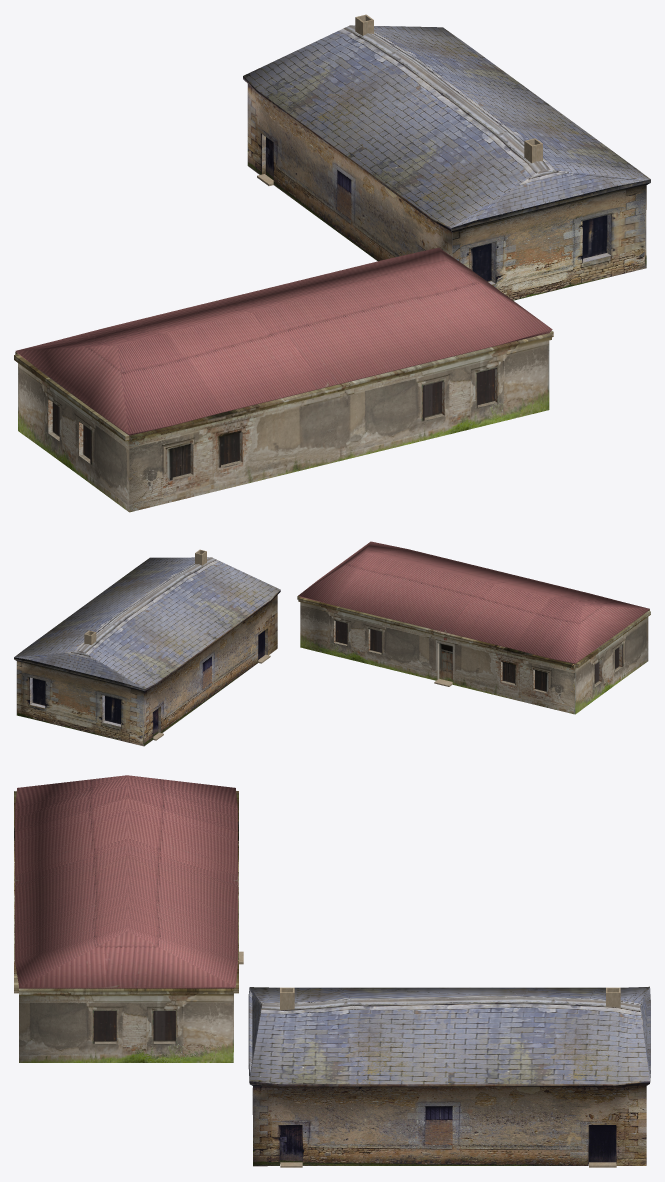
File: low_poly_cottages.glb
3 views of the same model, one above another, from view 1: azimuth 30°, elevation 25°; view 2: azimuth 150°, elevation 25°; view 3: azimuth 270°, elevation 25° (orthographic). The views are drawn at different scales.
Visible parts, largest first — view 1: unnamed; view 2: unnamed; view 3: unnamed.
Part boxes in pixels (<box>): unnamed: <box>14,14,650,512</box>; unnamed: <box>14,541,650,746</box>; unnamed: <box>14,775,650,1167</box>.
Bounding box in the file's own units: 1459 × 293 × 1289.
1 material, 1 textured.
